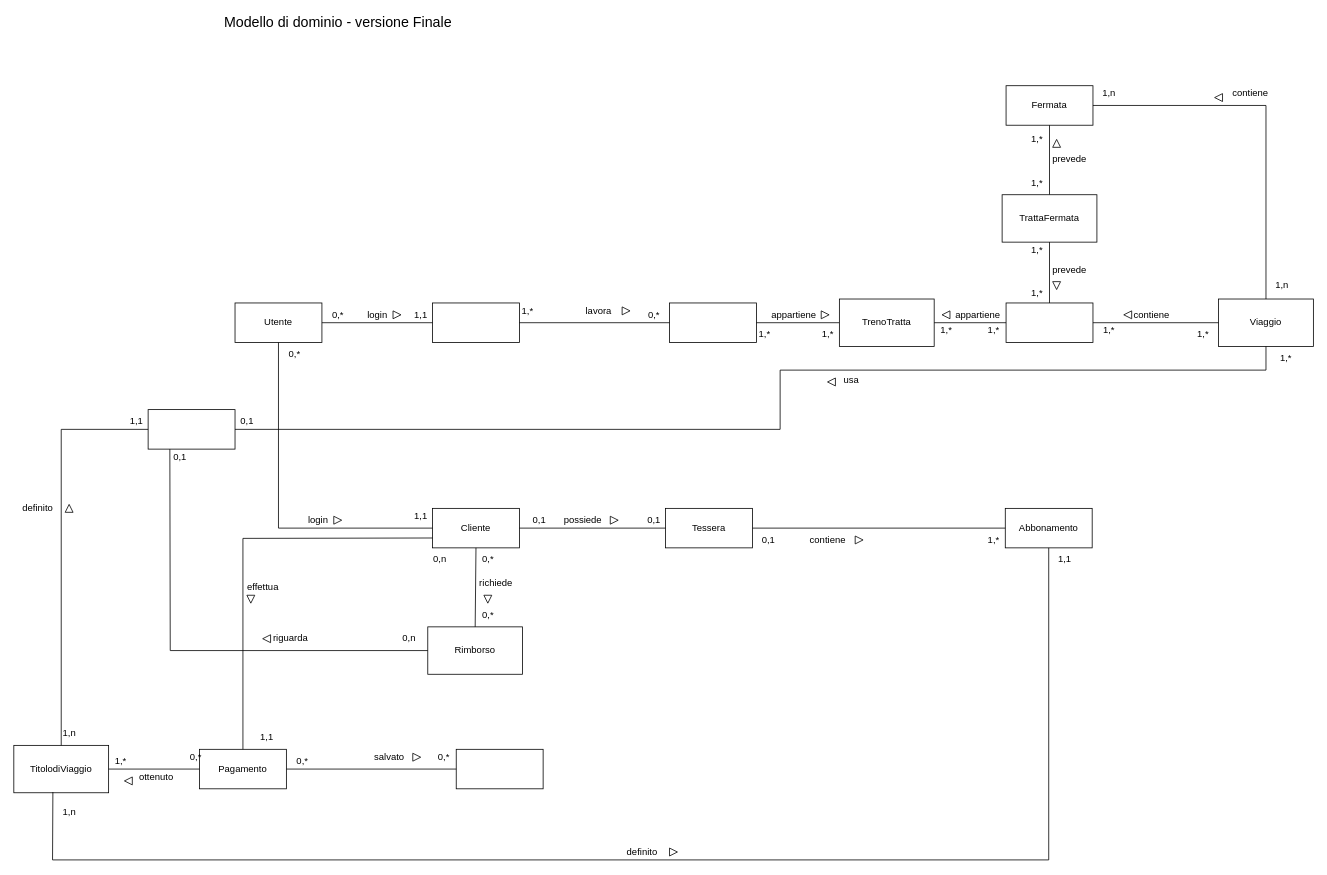
Image size: 1327x875. Some labels were removed from this diagram. Here are the shapes that lost their labels. From the top down, the centre of each, then its label:
point 475,322: Dipendente
point 712,322: Treno
point 1049,322: Tratta
point 191,429: Biglietto
point 499,769: StoricoPagamento
